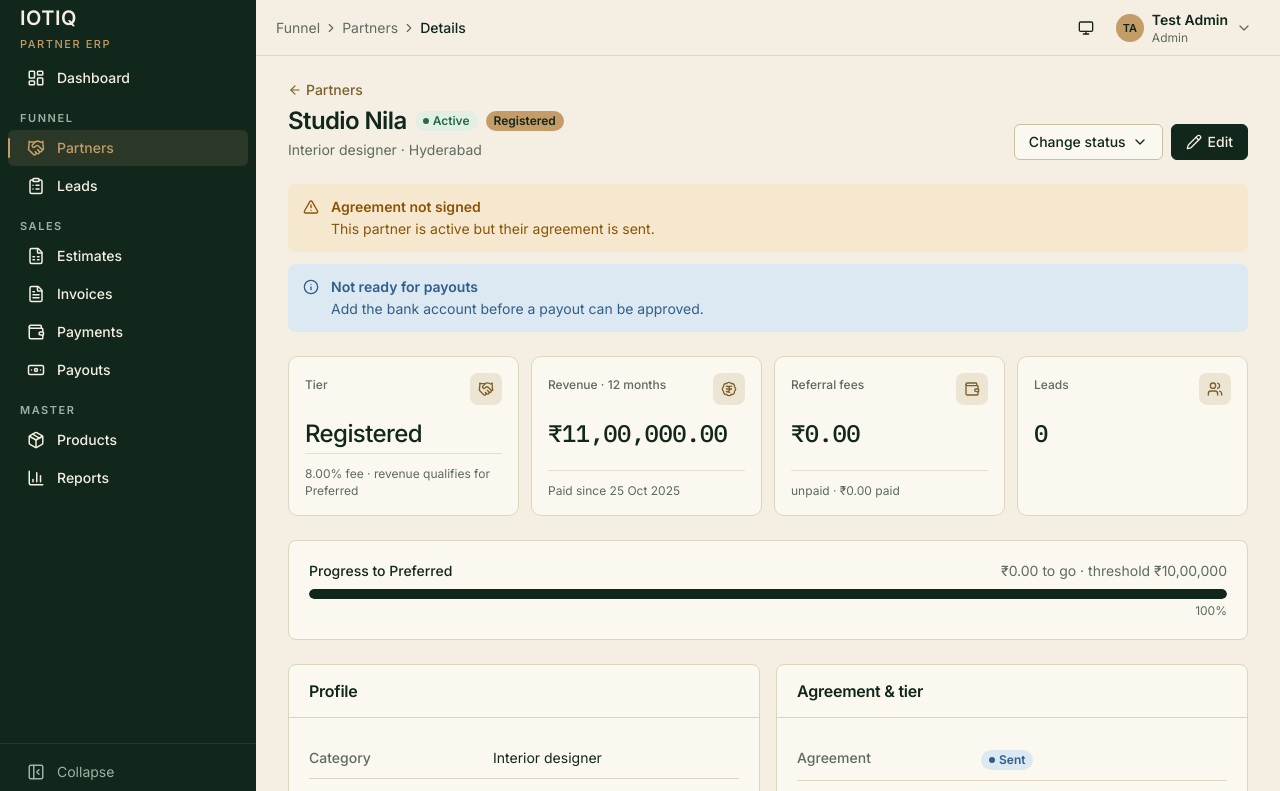
Test: partner details › confirms before deactivating and sends the version
Later steps or results of the test are not shown.
Click the button "Change status".
click(1088, 142)  # box [1014,124,1163,160]
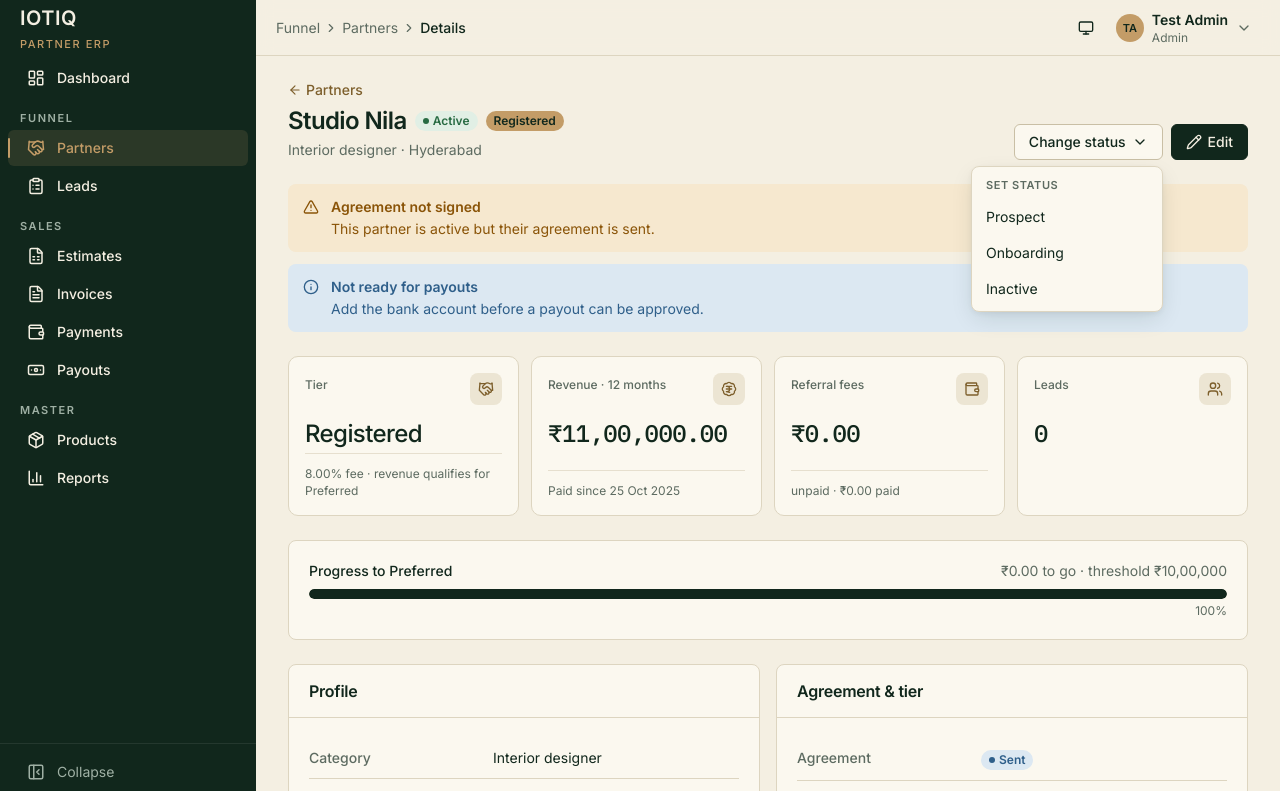
Click the menu item "Inactive".
click(1012, 288)  # box [986,280,1038,297]
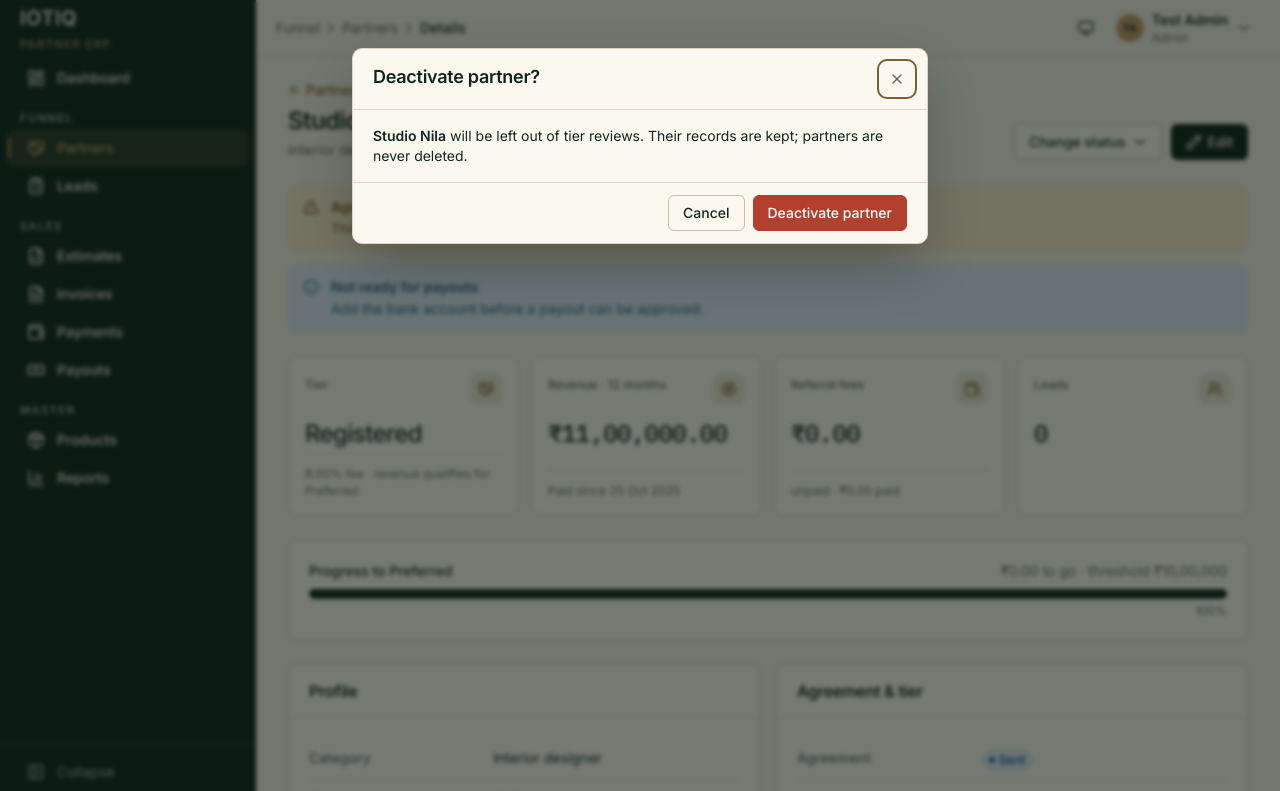
Now the text "never deleted" is shown, box [373,127,883,164]
